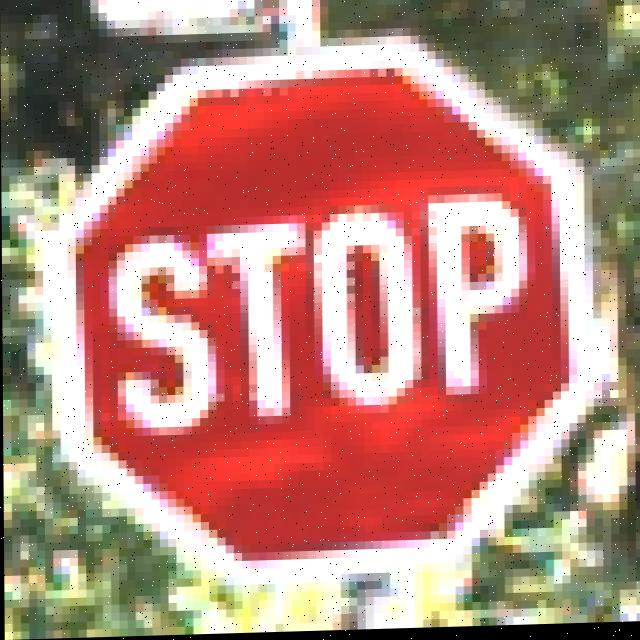stop: (62, 46, 613, 546)
